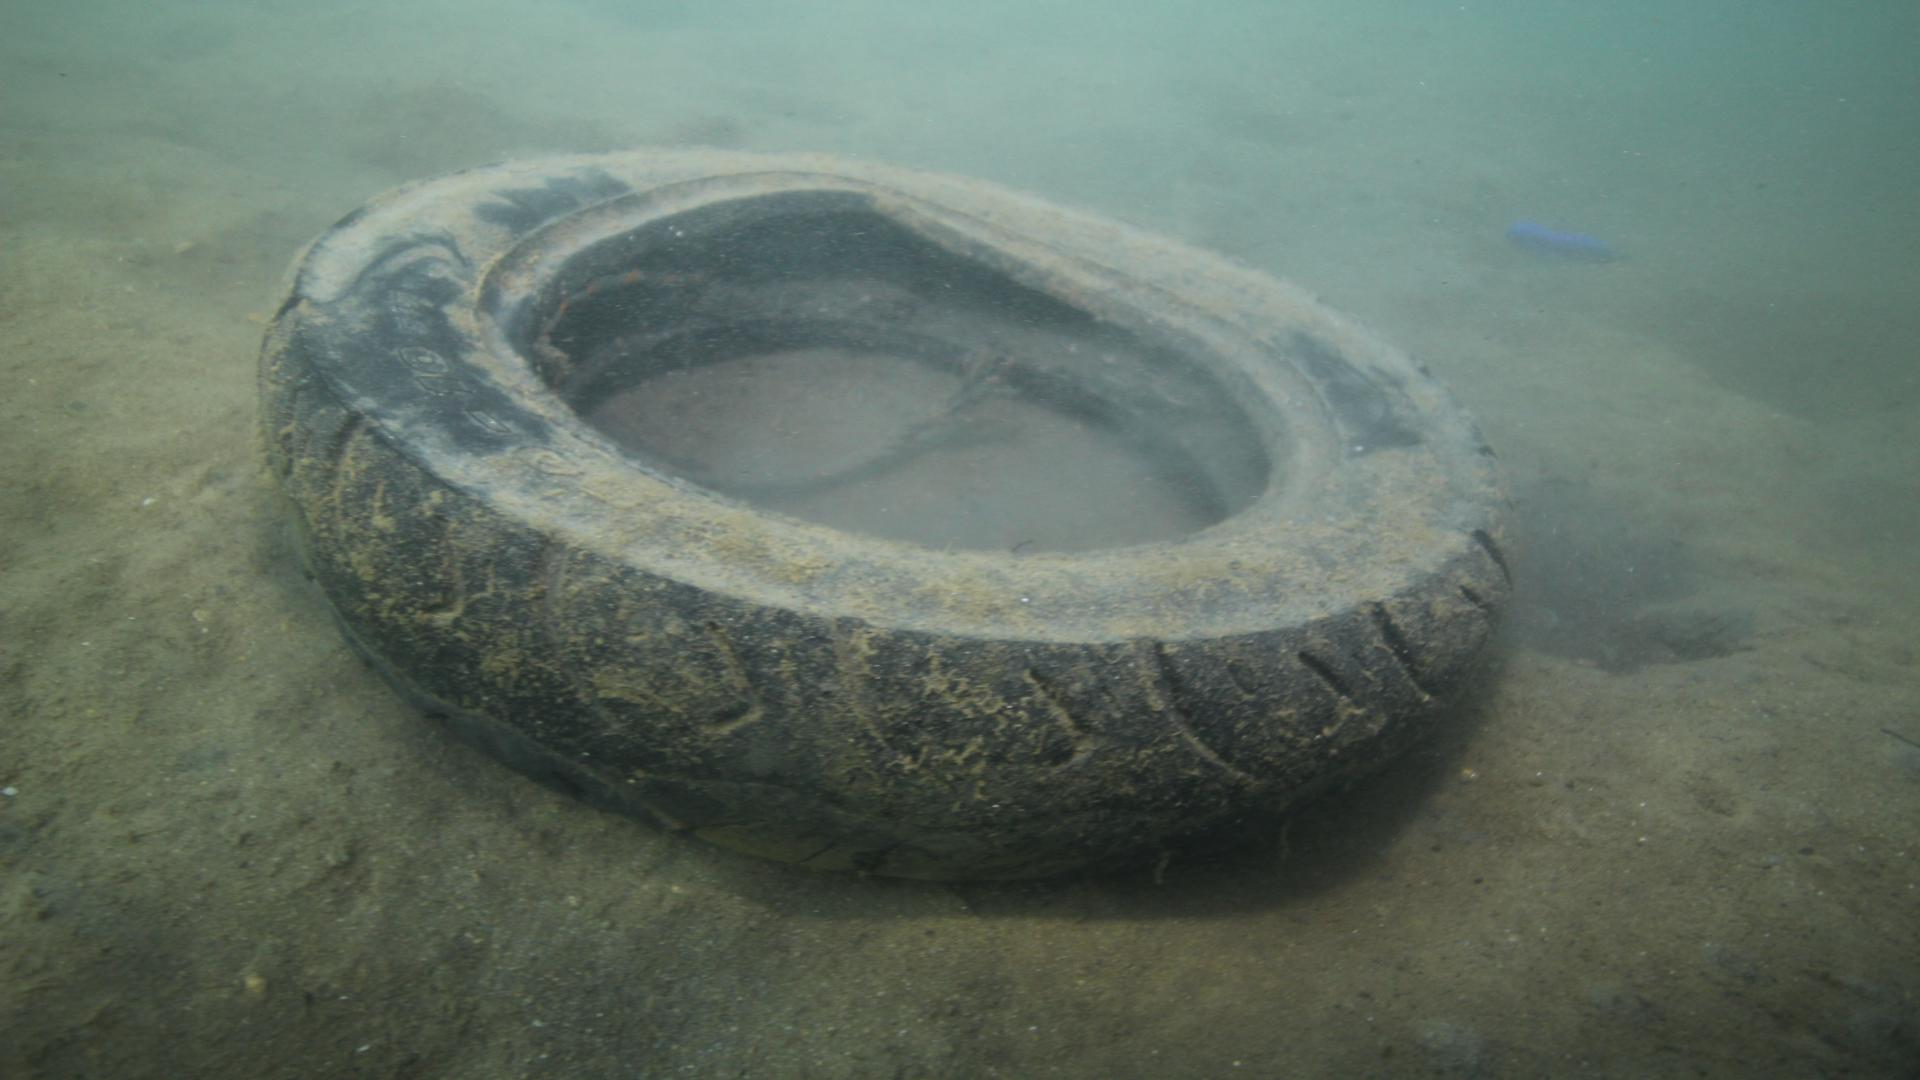rope: (531, 339, 914, 498)
tire: (253, 142, 1513, 893)
